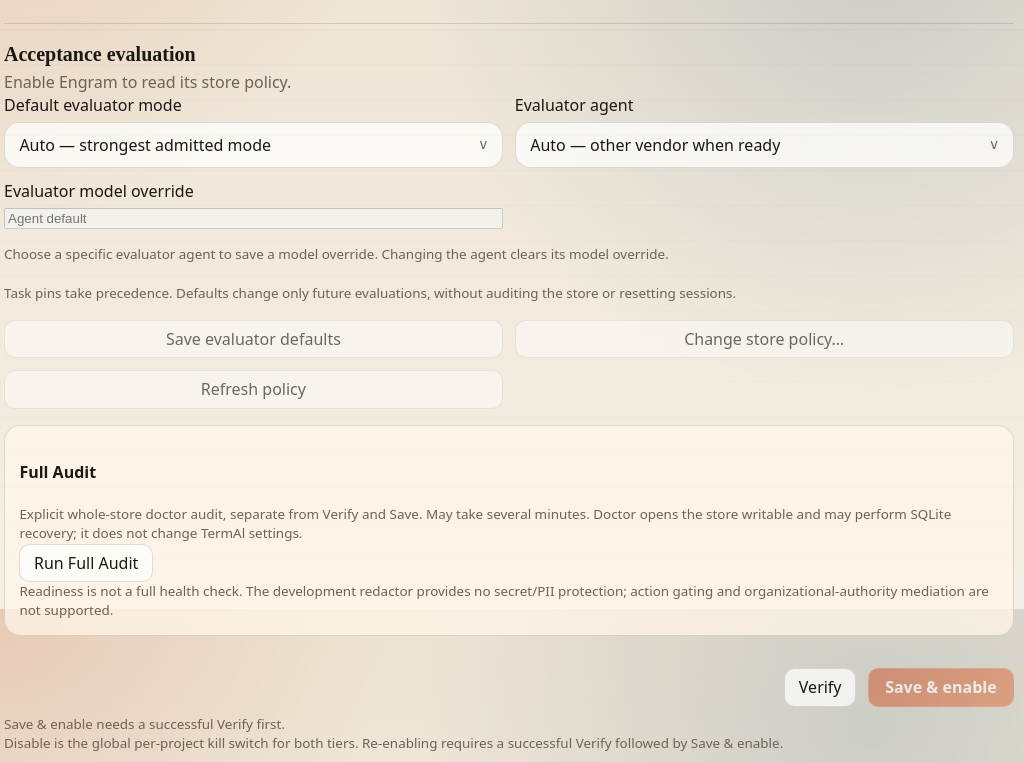
EngramProjectSettingsPanel Save & enable availability › gives no reason once a successful Verify makes Save available
(page scrolled)
Expected: the text "Enable Engram to read its store policy." is shown, [4,71,291,93]
Click the button "Verify".
click(820, 688)  # box [784,668,856,707]
(page scrolled)
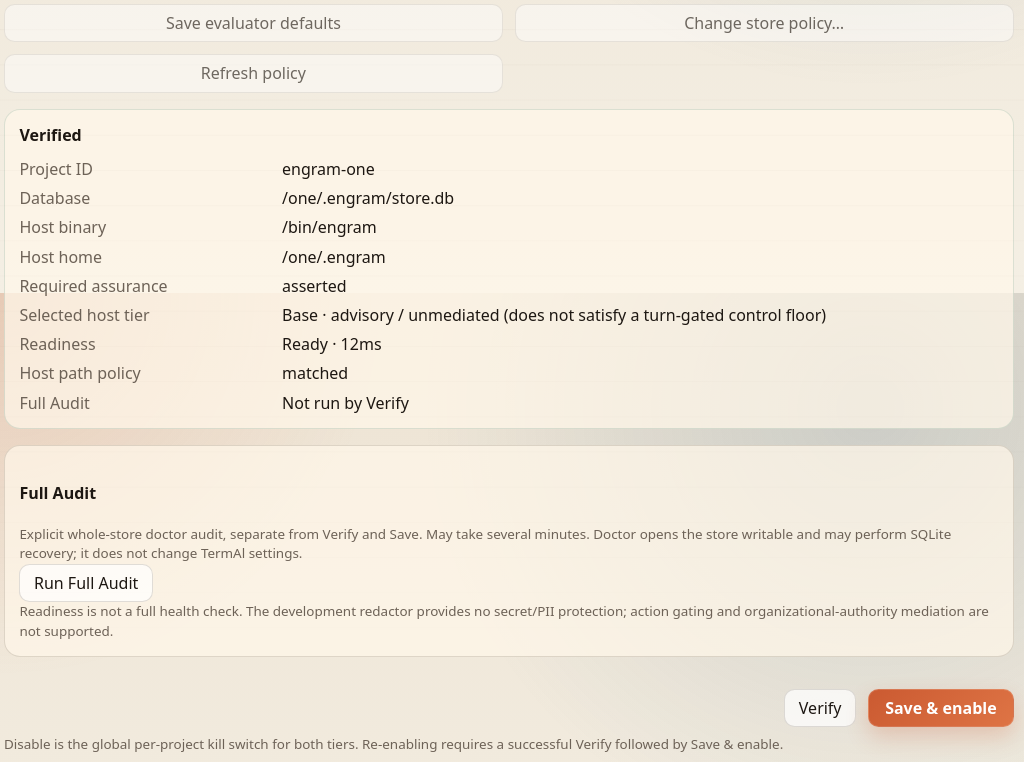
Expected: the button "Save & enable" is enabled, [868,688,1014,727]
Expected: the text "Save & enable needs" is gone
